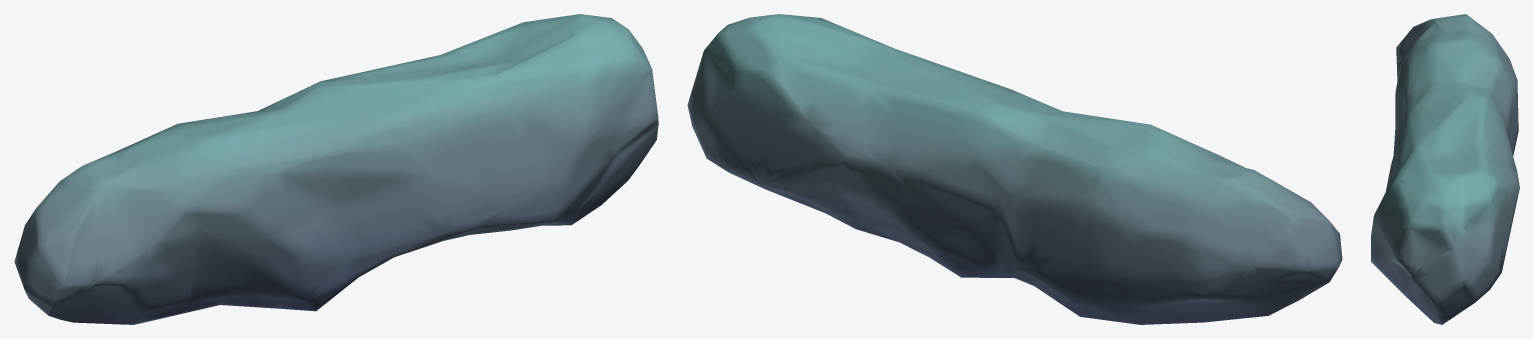
The model's file is SM_Hill_Rock_04.fbx.
3 views of the same model, side by side, from view 1: azimuth 30°, elevation 25°; view 2: azimuth 150°, elevation 25°; view 3: azimuth 270°, elevation 25° (orthographic). The views are drawn at different scales.
Parts seen in each view (by area): view 1: longStone; view 2: longStone; view 3: longStone.
Boxes of the visible parts, x1,y1,x2,y2 form: longStone: [14, 14, 658, 324]; longStone: [687, 14, 1342, 324]; longStone: [1371, 14, 1519, 324].
Bounding box in the file's own units: 1126 × 346 × 286.
1 material, 1 textured.
